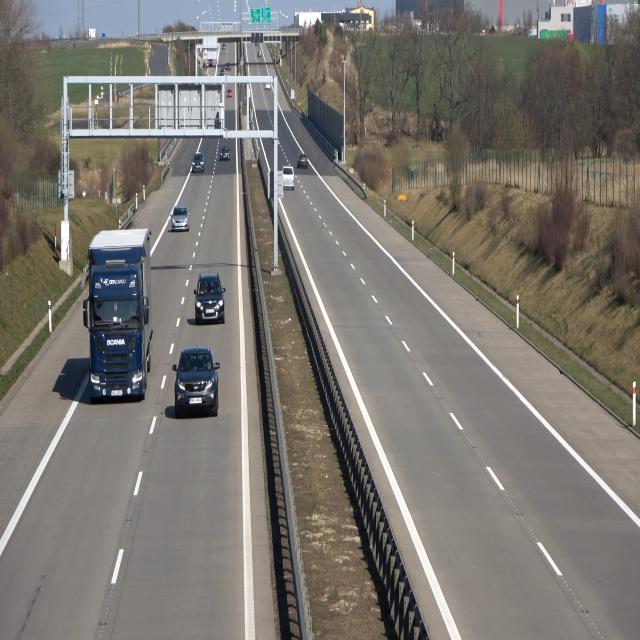Car: (87, 229, 152, 402), (173, 348, 221, 418), (194, 270, 226, 325), (171, 204, 190, 233), (282, 166, 296, 191), (192, 152, 205, 173), (219, 144, 231, 162), (296, 152, 308, 170)
